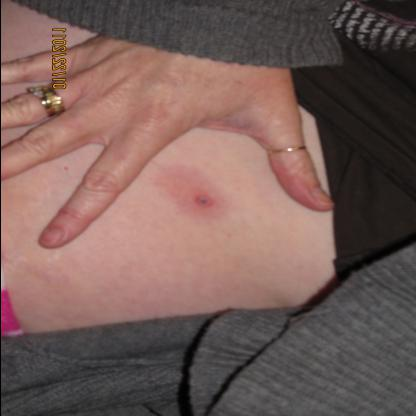Tick: (148, 162, 233, 228)
